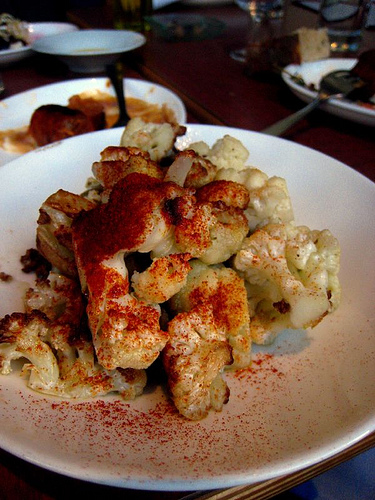cauliflower: (0, 118, 342, 420)
